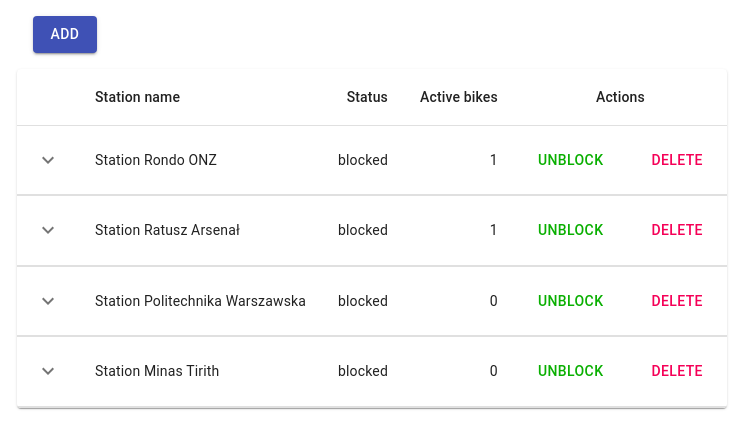
Test case: Clicking unblock changes station status
Click the button "Unblock" in the row of "Politechnika Warszawska" at x=571, y=301, box 530,282 -> 611,319
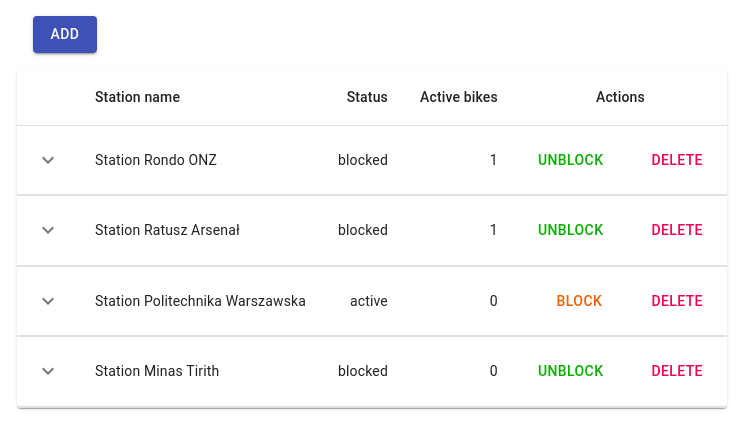
Now the cell "active" is shown, box 322,266 -> 404,336
